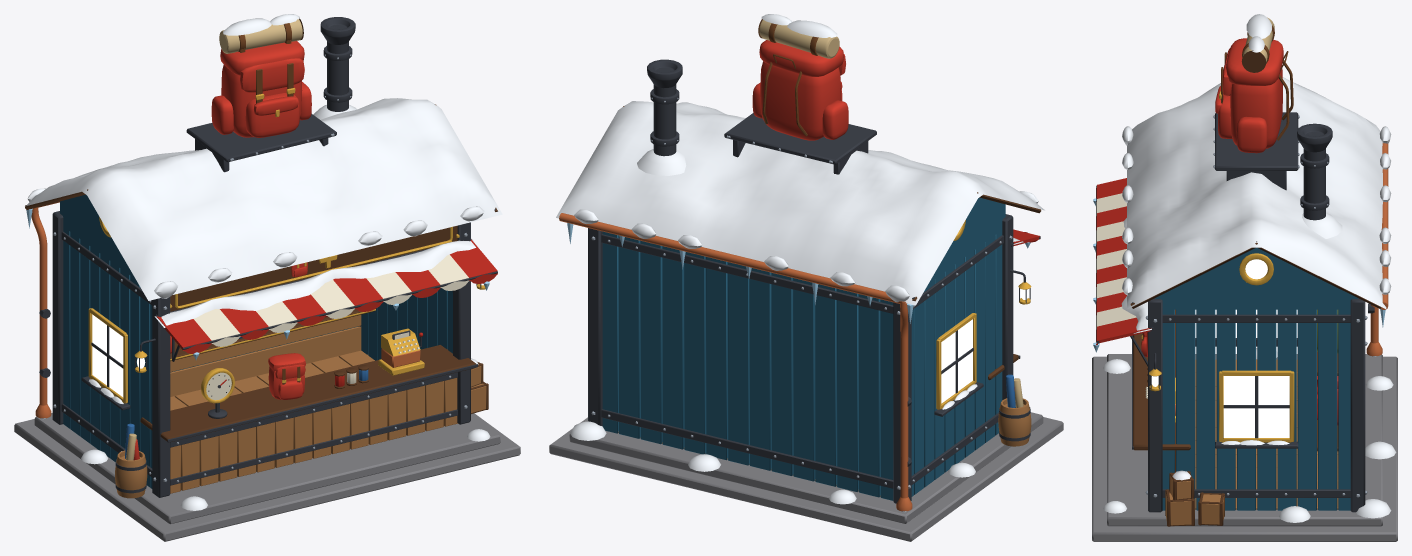
The model's file is backpack_shop.fbx.
3 views of the same model, side by side, from view 1: azimuth 30°, elevation 25°; view 2: azimuth 150°, elevation 25°; view 3: azimuth 270°, elevation 25° (orthographic).
Parts seen in each view (by area): view 1: Shop_Snow, Shop_Iron, Shop_Wood, Shop_Concrete, Shop_PaintBlue, Shop_WoodDark, Shop_BagRed, Shop_RedPaint, Shop_Cream, Shop_Brass, Shop_Copper, Shop_Light (+2 smaller); view 2: Shop_PaintBlue, Shop_Snow, Shop_Iron, Shop_Concrete, Shop_BagRed, Shop_Copper, Shop_Light, Shop_Canvas, Shop_Brass, Shop_Wood, Shop_Leather; view 3: Shop_Snow, Shop_PaintBlue, Shop_Concrete, Shop_Iron, Shop_BagRed, Shop_WoodDark, Shop_Light, Shop_RedPaint, Shop_Wood, Shop_Cream, Shop_Brass, Shop_Copper (+1 smaller).
Part boxes in pixels (bbox=[...]): Shop_Snow: bbox=[26, 14, 502, 510]; Shop_Iron: bbox=[39, 17, 497, 497]; Shop_Wood: bbox=[115, 315, 486, 498]; Shop_Concrete: bbox=[14, 413, 520, 541]; Shop_PaintBlue: bbox=[60, 194, 452, 488]; Shop_WoodDark: bbox=[25, 18, 497, 442]; Shop_BagRed: bbox=[133, 41, 327, 460]; Shop_RedPaint: bbox=[157, 239, 497, 386]; Shop_Cream: bbox=[193, 254, 468, 400]; Shop_Brass: bbox=[88, 88, 485, 403]; Shop_Copper: bbox=[31, 201, 420, 418]; Shop_Light: bbox=[92, 283, 483, 397]; Shop_PaintBlue: bbox=[602, 197, 1005, 500]; Shop_Snow: bbox=[556, 14, 1044, 504]; Shop_Iron: bbox=[588, 59, 1040, 503]; Shop_Concrete: bbox=[549, 412, 1063, 541]; Shop_BagRed: bbox=[752, 40, 1014, 390]; Shop_Copper: bbox=[559, 213, 912, 511]; Shop_Light: bbox=[941, 289, 1028, 403]; Shop_Canvas: bbox=[759, 20, 1023, 407]; Shop_Brass: bbox=[936, 220, 1031, 409]; Shop_Wood: bbox=[618, 398, 1031, 496]; Shop_Leather: bbox=[762, 23, 818, 136]; Shop_Snow: bbox=[1103, 14, 1396, 522]; Shop_PaintBlue: bbox=[1155, 247, 1357, 510]; Shop_Concrete: bbox=[1092, 354, 1397, 541]; Shop_Iron: bbox=[1096, 112, 1374, 512]; Shop_BagRed: bbox=[1141, 38, 1338, 425]; Shop_WoodDark: bbox=[1130, 50, 1381, 526]; Shop_Light: bbox=[1151, 259, 1289, 437]; Shop_RedPaint: bbox=[1096, 178, 1151, 344]; Shop_Wood: bbox=[1165, 359, 1338, 525]; Shop_Cream: bbox=[1096, 193, 1147, 398]; Shop_Brass: bbox=[1141, 91, 1294, 442]; Shop_Copper: bbox=[1175, 143, 1388, 415].
Size of the model in its own units: 12.99 by 14.2 by 9.2.
